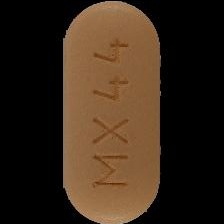0378-1724: (0, 0, 224, 224)
